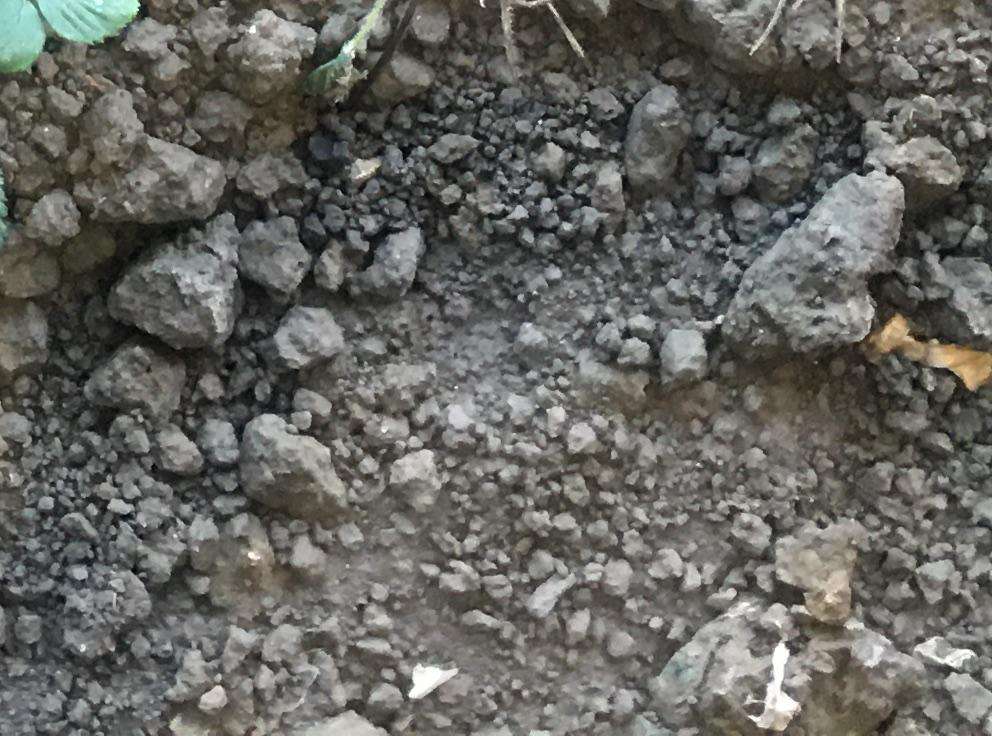block: (721, 164, 908, 368), (657, 598, 916, 736), (103, 224, 243, 347), (68, 130, 230, 230), (242, 409, 353, 522)
